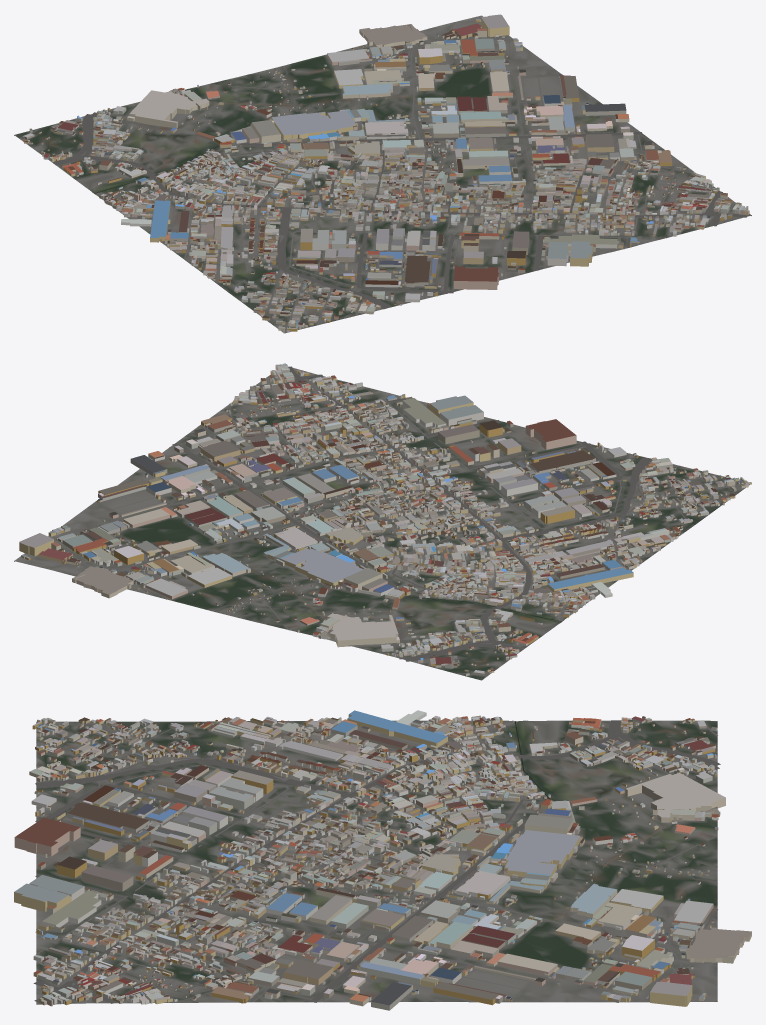
3 renders of one model, top to bottom at view 1: azimuth 30°, elevation 25°; view 2: azimuth 150°, elevation 25°; view 3: azimuth 270°, elevation 25°, orthographic. The views are drawn at different scales.
Visible parts, largest first — view 1: buildings, ground, roads; view 2: buildings, ground, roads; view 3: buildings, ground, roads.
Part boxes in pixels (x1,y1,x2,y2): buildings: (22, 14, 749, 333); ground: (14, 15, 751, 333); roads: (19, 38, 747, 333); buildings: (19, 363, 751, 676); ground: (14, 368, 751, 680); roads: (53, 366, 744, 676); buildings: (14, 710, 751, 1010); ground: (36, 720, 717, 1004); roads: (33, 720, 720, 1004).
Size of the model in its own units: 1476 by 43.7 by 1517.
